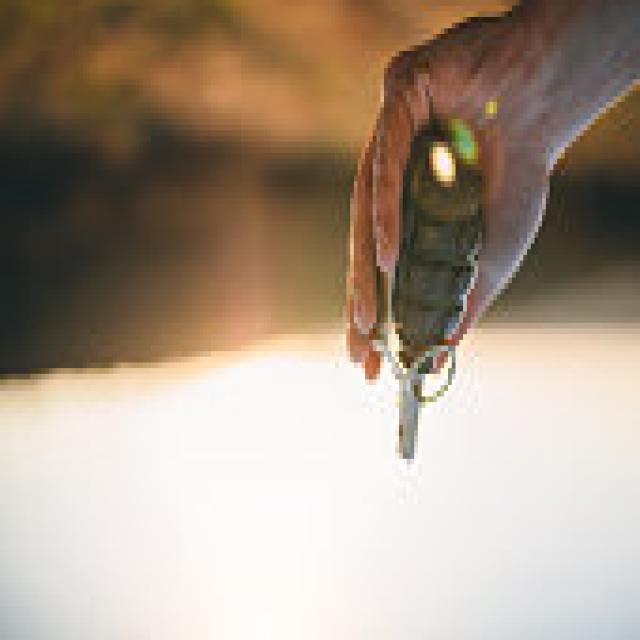grenade: (368, 130, 492, 475)
